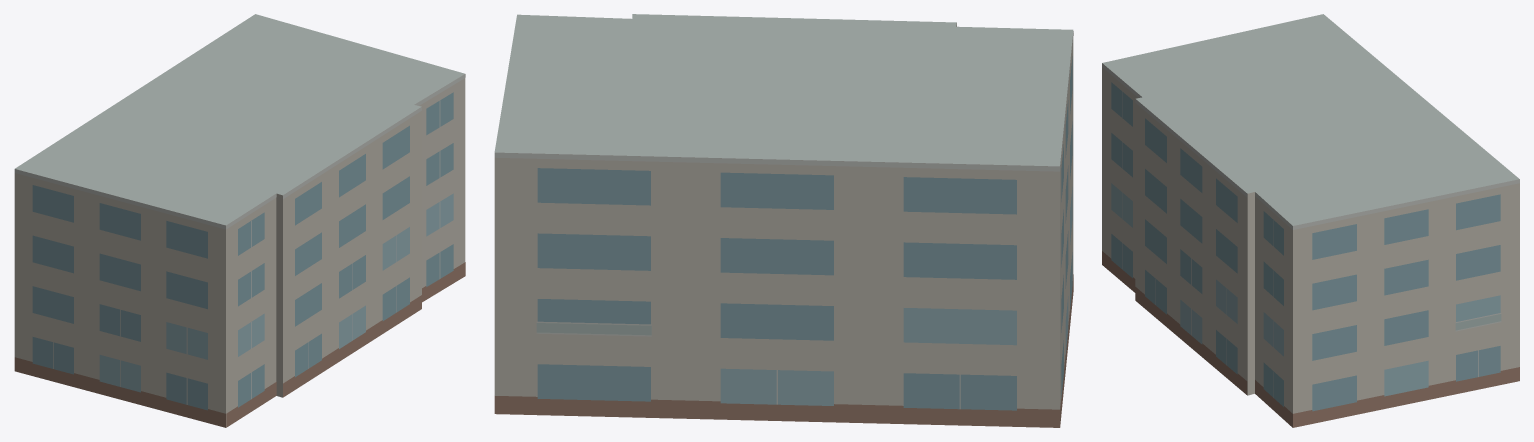
File: survey-upis-32863816.glb
3 views of the same model, side by side, from view 1: azimuth 30°, elevation 25°; view 2: azimuth 150°, elevation 25°; view 3: azimuth 270°, elevation 25° (orthographic). The views are drawn at different scales.
Visible parts, largest first — view 1: survey-upis-32863816.tmp; view 2: survey-upis-32863816.tmp; view 3: survey-upis-32863816.tmp.
Part boxes in pixels (x1,y1,x2,y2): survey-upis-32863816.tmp: [14, 14, 465, 427]; survey-upis-32863816.tmp: [494, 14, 1073, 427]; survey-upis-32863816.tmp: [1102, 14, 1519, 427].
Size of the model in its own units: 27.49 by 12.2 by 22.89.
